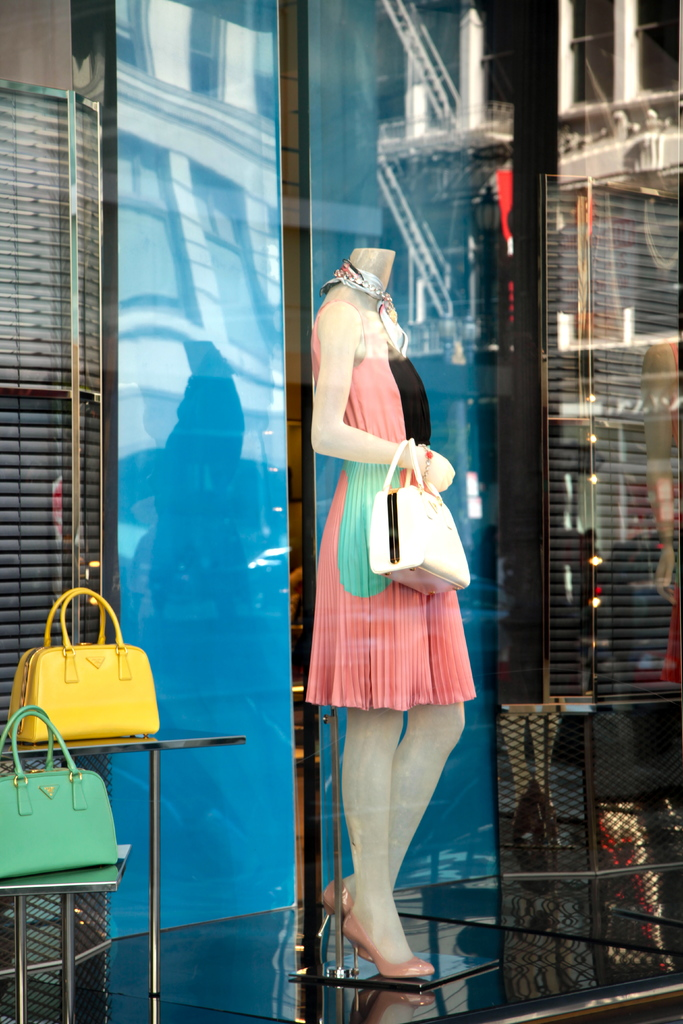Human_hand: (399, 431, 458, 509)
